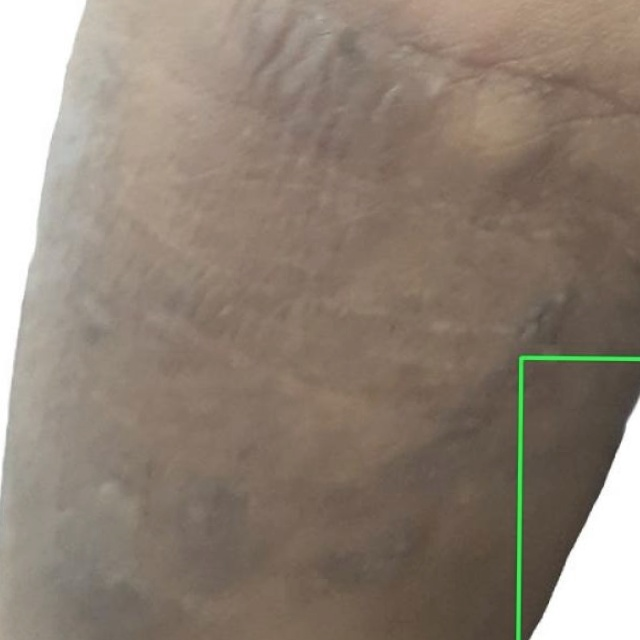Contact Dermatitis: (518, 357, 639, 639)
